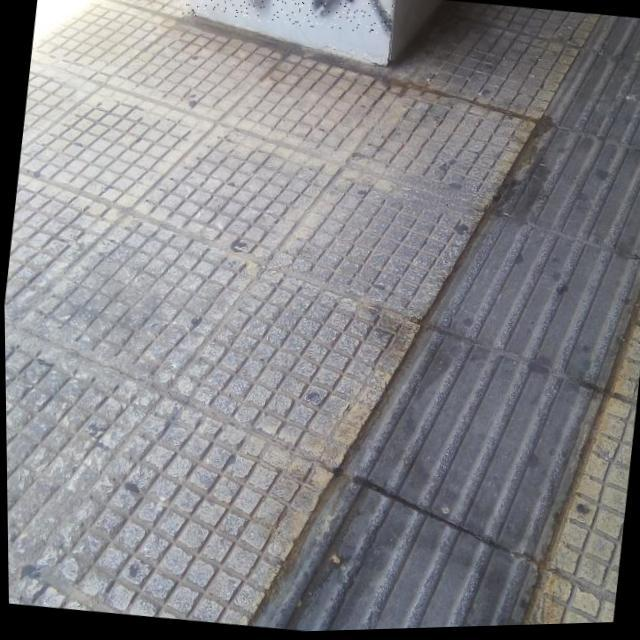-: (166, 0, 395, 41)
